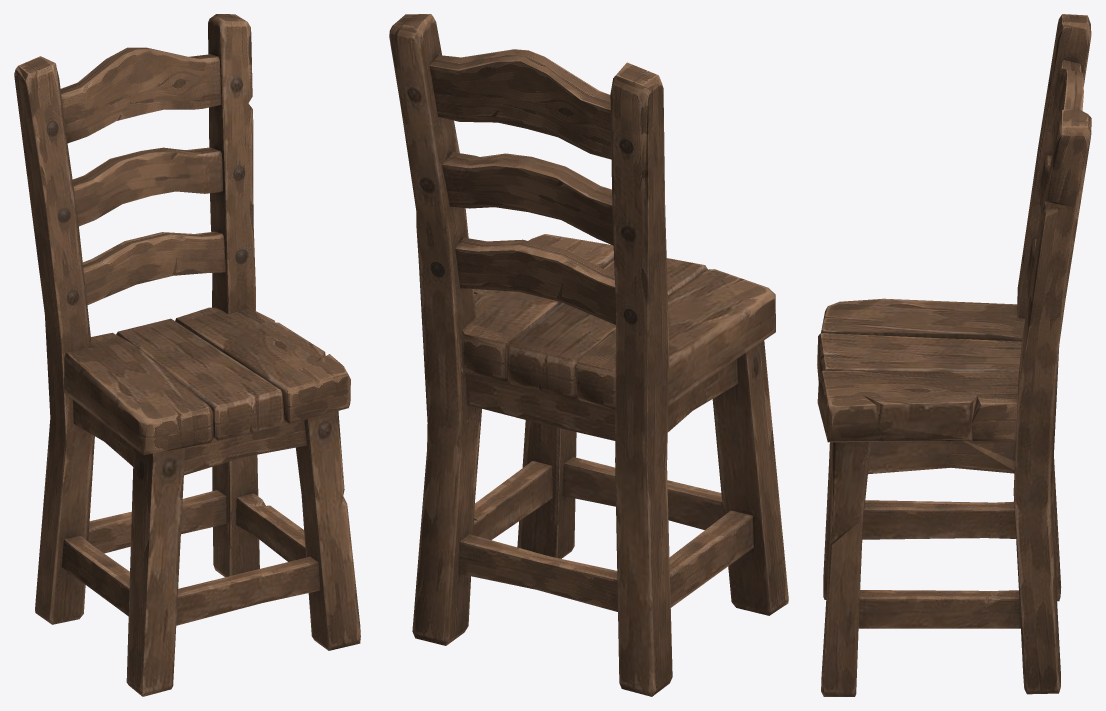
Rendered from chair.glb.
3 views of the same model, side by side, from view 1: azimuth 30°, elevation 25°; view 2: azimuth 150°, elevation 25°; view 3: azimuth 270°, elevation 25° (orthographic). The views are drawn at different scales.
Parts seen in each view (by area): view 1: GLTF; view 2: GLTF; view 3: GLTF.
Part boxes in pixels (x1=…): GLTF: x1=14, y1=14, x2=360, y2=696; GLTF: x1=389, y1=14, x2=788, y2=696; GLTF: x1=817, y1=14, x2=1091, y2=696.
Bounding box in the file's own units: 0.4 × 0.9251 × 0.4.
1 material, 1 textured.
